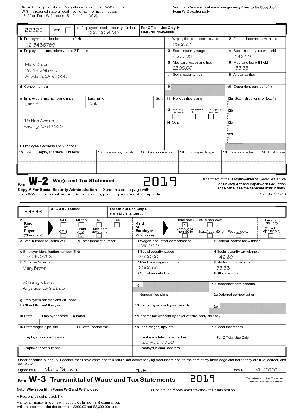checkbox: (181, 221, 189, 229), (95, 221, 103, 228), (114, 221, 121, 229), (181, 232, 189, 239), (206, 221, 214, 228), (235, 232, 243, 239), (267, 232, 275, 239), (171, 113, 179, 120), (64, 27, 72, 34), (207, 232, 214, 239), (190, 113, 197, 120), (208, 113, 215, 120), (59, 222, 67, 228), (77, 222, 85, 228), (77, 233, 85, 239), (95, 232, 103, 238), (60, 233, 67, 239)
textbox: (16, 106, 166, 151), (16, 47, 166, 86), (17, 269, 134, 304), (16, 82, 167, 98), (138, 22, 288, 38), (16, 34, 166, 50), (130, 312, 288, 327), (131, 344, 288, 358), (163, 119, 227, 151), (17, 258, 134, 273), (17, 248, 134, 262), (17, 301, 134, 315), (17, 334, 134, 347), (16, 344, 133, 357), (16, 147, 99, 163), (15, 159, 98, 175), (39, 312, 134, 325), (16, 94, 87, 110), (208, 333, 288, 347), (208, 301, 288, 315), (208, 291, 288, 305), (208, 280, 288, 294), (130, 279, 210, 293), (132, 268, 212, 282), (208, 269, 288, 283), (208, 259, 288, 273), (132, 258, 212, 272), (131, 248, 211, 262), (208, 248, 288, 262), (131, 236, 211, 250), (208, 236, 288, 250), (85, 94, 156, 109), (208, 323, 288, 336), (131, 333, 210, 346), (131, 323, 210, 336), (132, 291, 210, 304), (74, 23, 141, 38), (163, 94, 227, 109), (224, 35, 288, 49), (163, 47, 227, 61), (224, 47, 288, 61), (163, 59, 227, 73), (224, 60, 288, 74), (163, 71, 227, 85), (224, 71, 288, 85), (223, 83, 287, 97), (163, 83, 227, 97), (163, 95, 227, 109), (223, 95, 287, 109), (223, 107, 287, 121), (224, 119, 288, 133), (225, 130, 289, 144), (163, 35, 226, 49), (47, 205, 109, 219), (16, 323, 77, 336), (74, 323, 134, 336), (74, 237, 134, 250), (17, 237, 76, 250), (94, 160, 141, 175), (95, 148, 141, 163), (177, 160, 223, 175), (178, 148, 224, 162), (139, 148, 181, 163), (220, 149, 263, 163), (220, 160, 263, 174), (139, 161, 180, 175), (260, 148, 288, 164), (260, 159, 288, 175), (17, 313, 41, 325), (152, 94, 166, 109)
textline: (34, 366, 135, 374), (142, 366, 232, 374), (240, 366, 289, 374)
